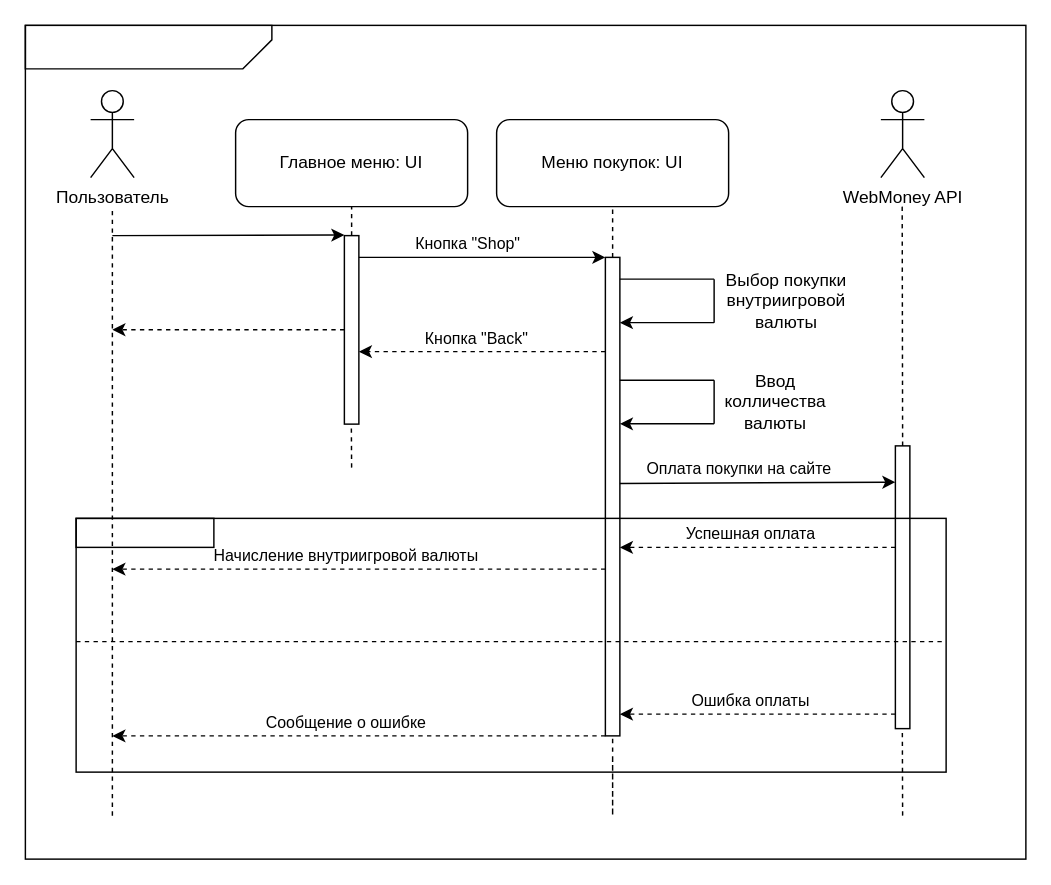
This 1051x885 diagram has some shape labels left out. The box of each missing label's shape, as (x1, y1, x2, y2) in pixels:
Alternative: (75, 517, 214, 547)
Покупка внутриигровой валюты: (24, 24, 272, 69)
